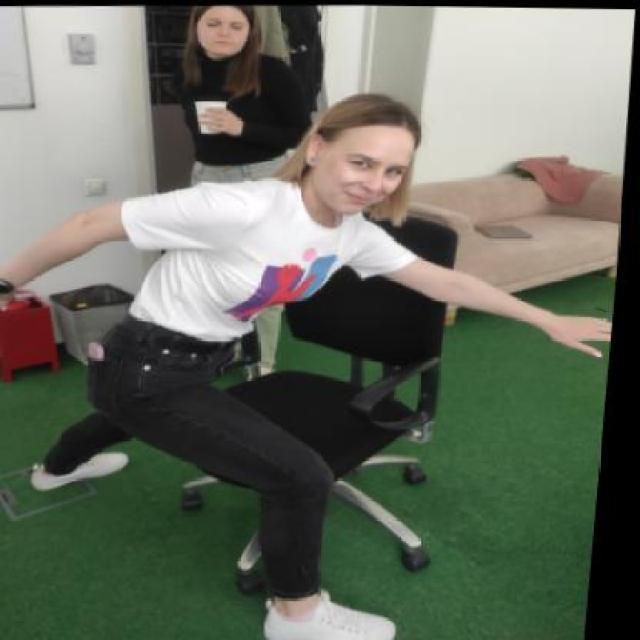chair: (163, 199, 494, 604)
